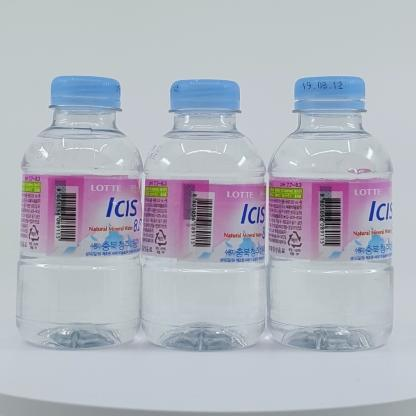------200ML: (15, 75, 144, 350), (266, 76, 394, 351), (141, 79, 267, 352)
